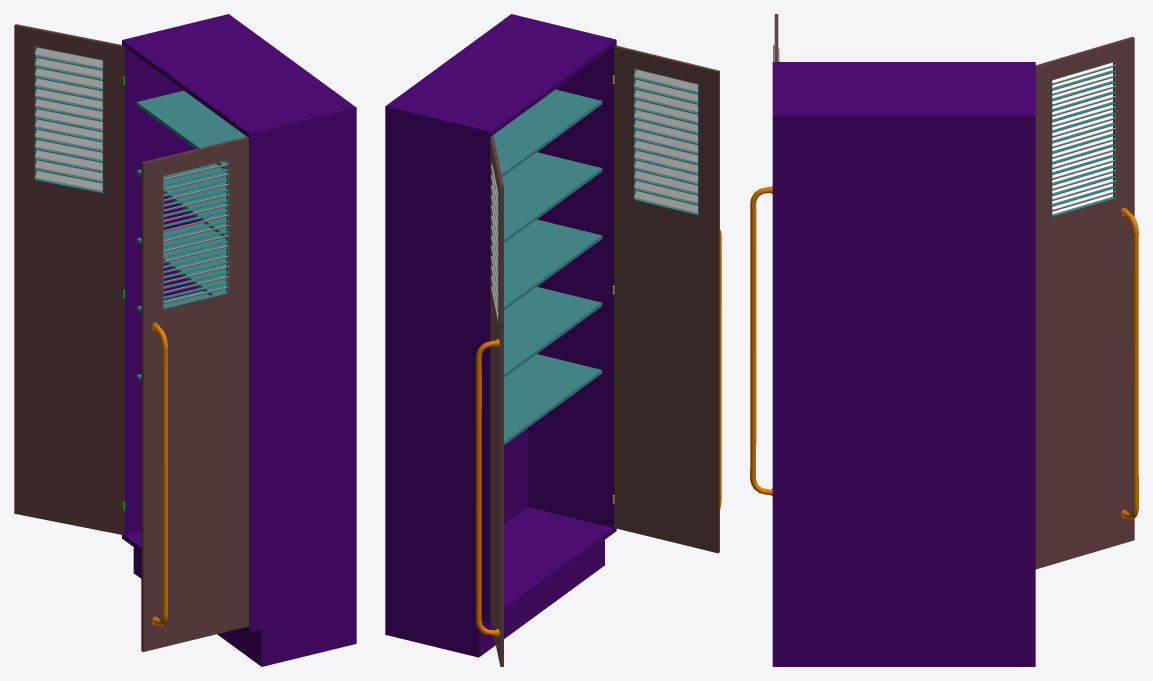
3 views of the same model, side by side, from view 1: azimuth 30°, elevation 25°; view 2: azimuth 150°, elevation 25°; view 3: azimuth 270°, elevation 25° (orthographic). The views are drawn at different scales.
Parts seen in each view (by area): view 1: pCylinder16; view 2: pCylinder16; view 3: pCylinder16.
Boxes of the visible parts, bbox=[...] form: pCylinder16: bbox=[14, 14, 356, 666]; pCylinder16: bbox=[385, 14, 721, 666]; pCylinder16: bbox=[750, 14, 1138, 666].
Size of the model in its own units: 97.77 by 236 by 151.
